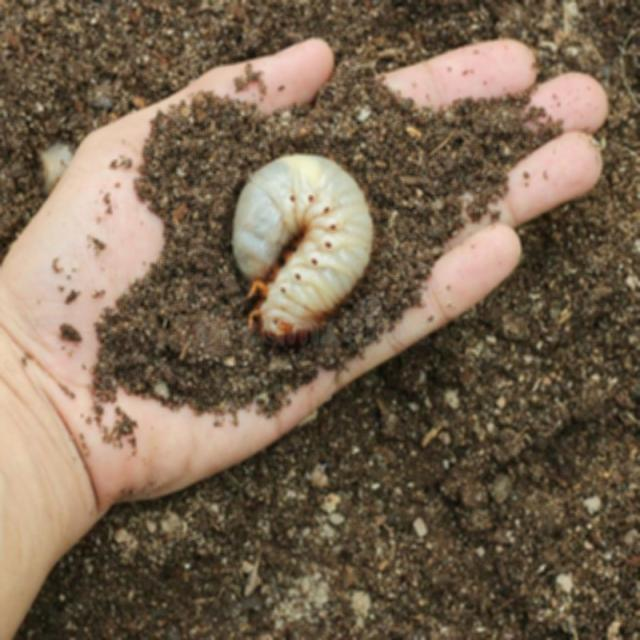grub: (223, 151, 383, 340)
